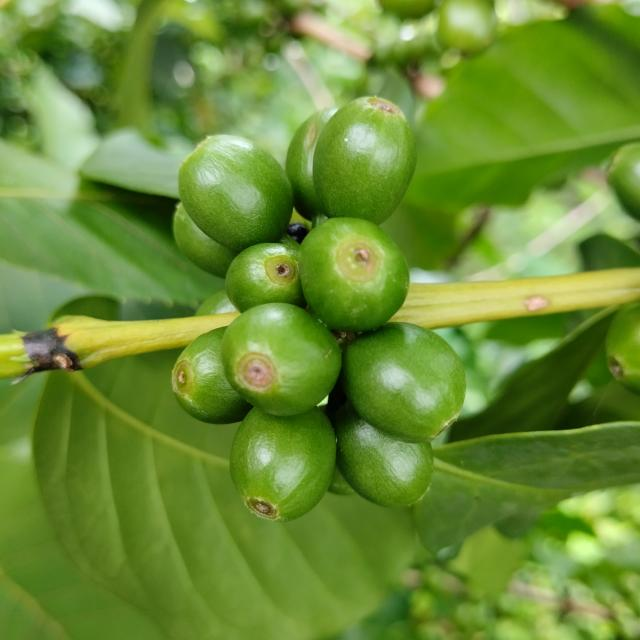green: (341, 322, 466, 444), (221, 303, 342, 416), (178, 134, 293, 251), (313, 96, 417, 224), (298, 217, 410, 332), (229, 407, 336, 522), (335, 402, 434, 508), (171, 327, 252, 424), (286, 107, 338, 227), (225, 235, 306, 312), (172, 202, 238, 277), (607, 303, 640, 394), (608, 142, 640, 219), (195, 289, 238, 316)
